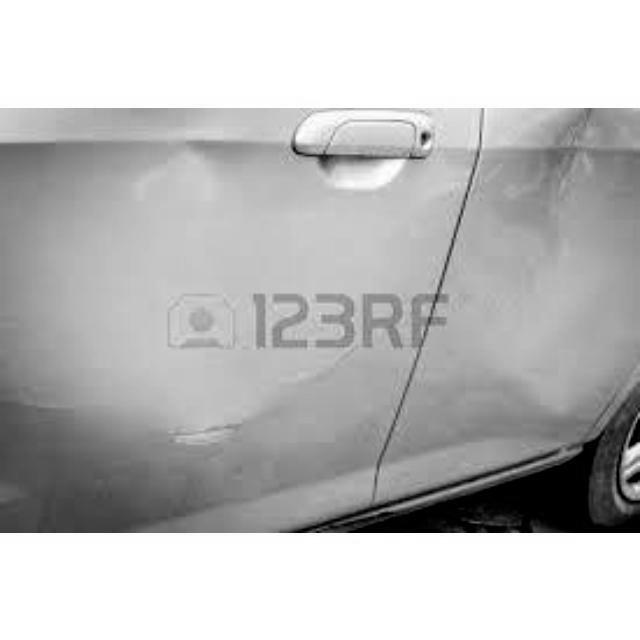doorouter-dent: (126, 108, 428, 531)
quaterpanel-dent: (497, 108, 638, 473)
